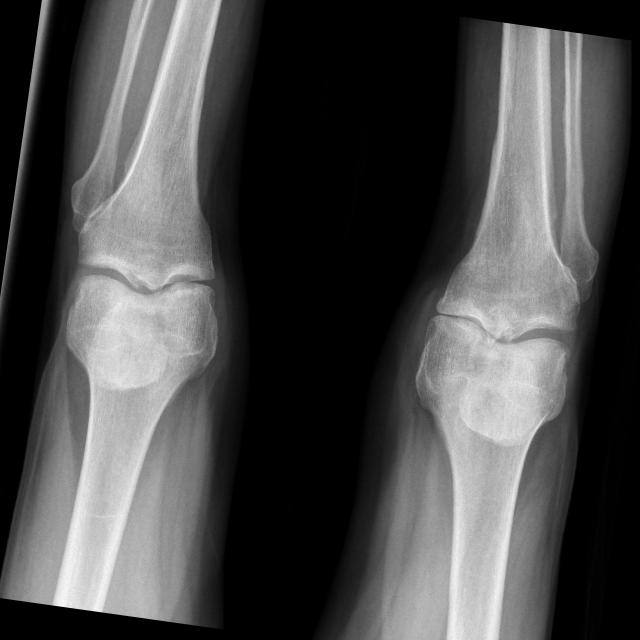Knee: (58, 206, 234, 372), (410, 254, 586, 418)
